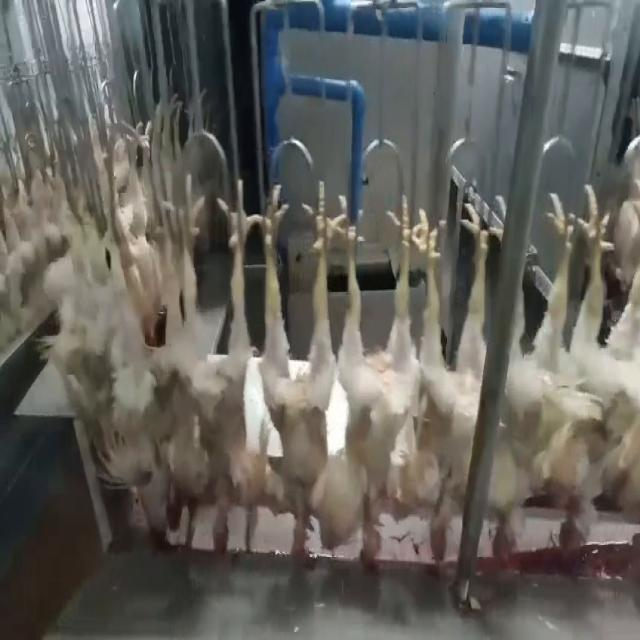chicken: (317, 188, 419, 574), (149, 175, 250, 558), (400, 198, 503, 568), (264, 178, 336, 564), (538, 178, 606, 566), (96, 166, 149, 491), (602, 174, 640, 530)
